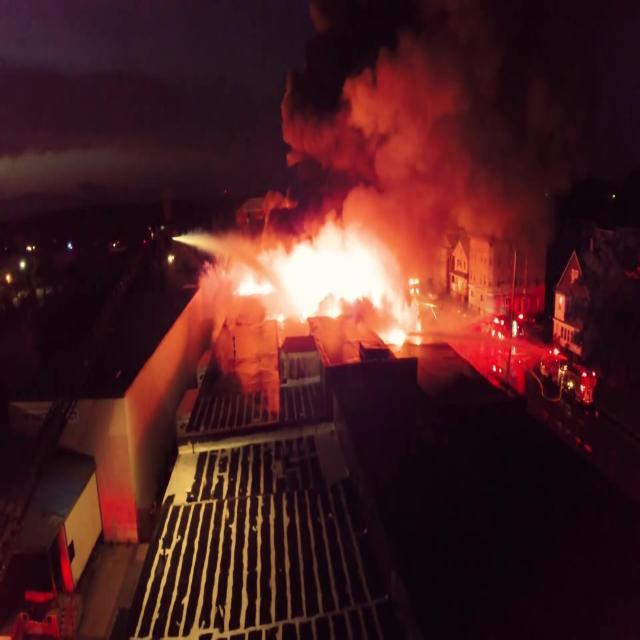Fire: (324, 224, 352, 307), (356, 233, 388, 304), (241, 258, 286, 298), (292, 253, 318, 314), (388, 272, 410, 324), (386, 333, 401, 349)
Smoke: (288, 31, 467, 180)
